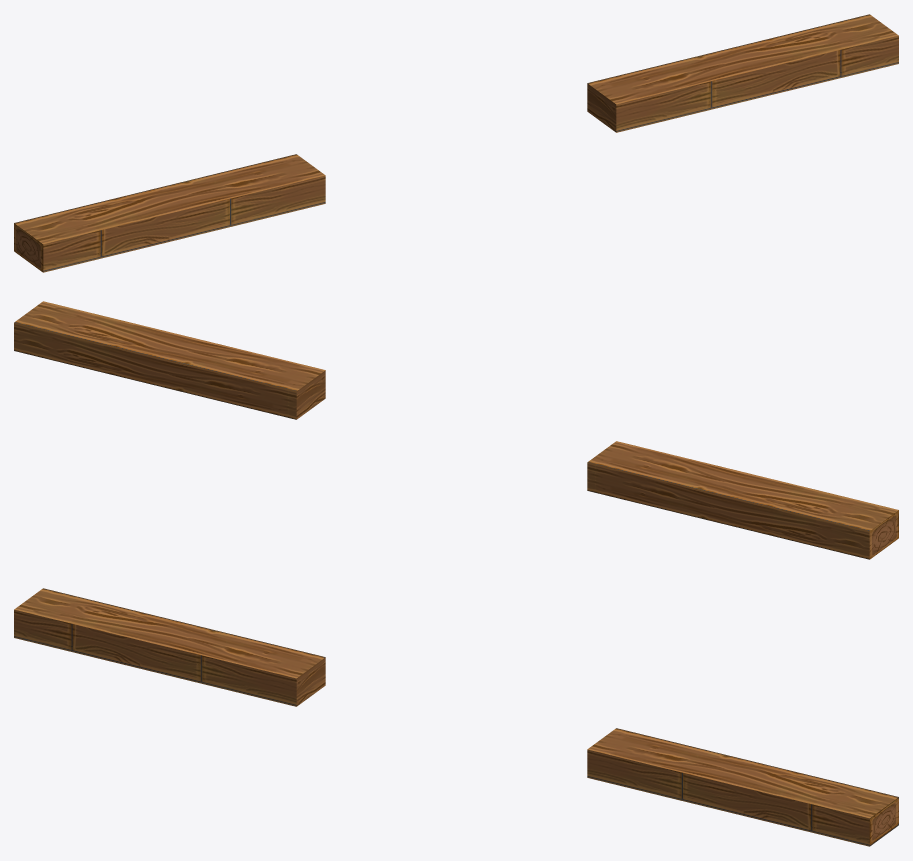
3 views of the same model, one above another, from view 1: azimuth 30°, elevation 25°; view 2: azimuth 150°, elevation 25°; view 3: azimuth 330°, elevation 25° (orthographic).
Parts seen in each view (by area): view 1: Cube.1530; view 2: Cube.1530; view 3: Cube.1530.
Boxes of the visible parts, <box> form: Cube.1530: <box>14,14,898,272</box>; Cube.1530: <box>14,301,898,559</box>; Cube.1530: <box>14,588,898,846</box>.
Size of the model in its own units: 911 by 28.81 by 53.89.
Materials: 1 (1 with a texture image).
